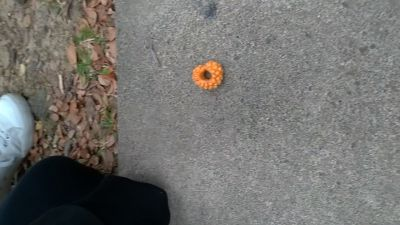eggs: (191, 60, 225, 91)
